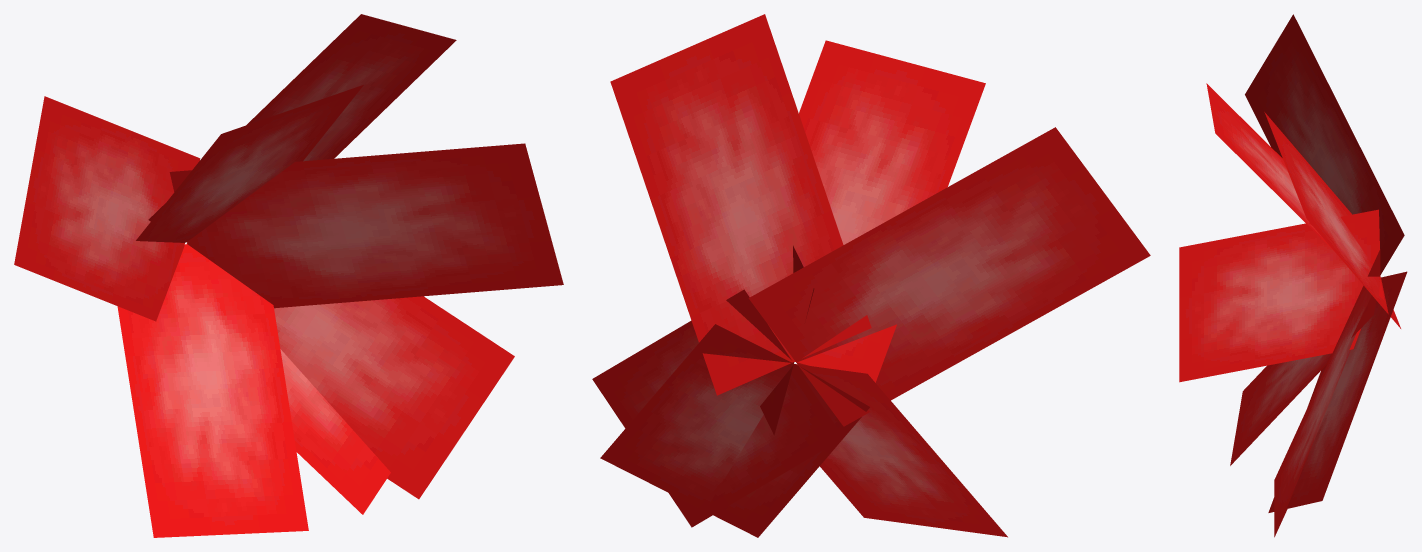
The model's file is huoyanzhadan.obj.
The picture shows the model from 3 angles, left to right: view 1: azimuth 30°, elevation 25°; view 2: azimuth 150°, elevation 25°; view 3: azimuth 270°, elevation 25°; orthographic projection. The views are drawn at different scales.
Parts seen in each view (by area): view 1: Plane03, Plane04, Plane06, Plane02, Plane05, Plane01, Plane07; view 2: Plane02, Plane05, Plane01, Plane07, Plane04, Plane06, Plane03; view 3: Plane03, Plane02, Plane07, Plane05, Plane06, Plane04, Plane01.
Part boxes in pixels (box(x1,y1,x2,y2)): Plane03: box(169, 143, 563, 308); Plane04: box(117, 244, 308, 537); Plane06: box(187, 243, 514, 499); Plane02: box(14, 96, 200, 321); Plane05: box(148, 14, 456, 221); Plane01: box(136, 85, 363, 242); Plane07: box(280, 349, 390, 514); Plane02: box(748, 127, 1150, 426); Plane05: box(610, 14, 871, 395); Plane01: box(795, 40, 985, 382); Plane07: box(600, 324, 869, 537); Plane04: box(795, 364, 1007, 537); Plane06: box(592, 289, 843, 527); Plane03: box(760, 245, 814, 435); Plane03: box(1179, 209, 1379, 382); Plane02: box(1245, 14, 1404, 274); Plane07: box(1268, 271, 1407, 512); Plane05: box(1264, 112, 1400, 328); Plane06: box(1274, 249, 1380, 537); Plane04: box(1230, 295, 1376, 465); Plane01: box(1206, 83, 1384, 300).
Size of the model in its own units: 98.86 by 91.97 by 47.36.
Materials: 1 (1 with a texture image).
